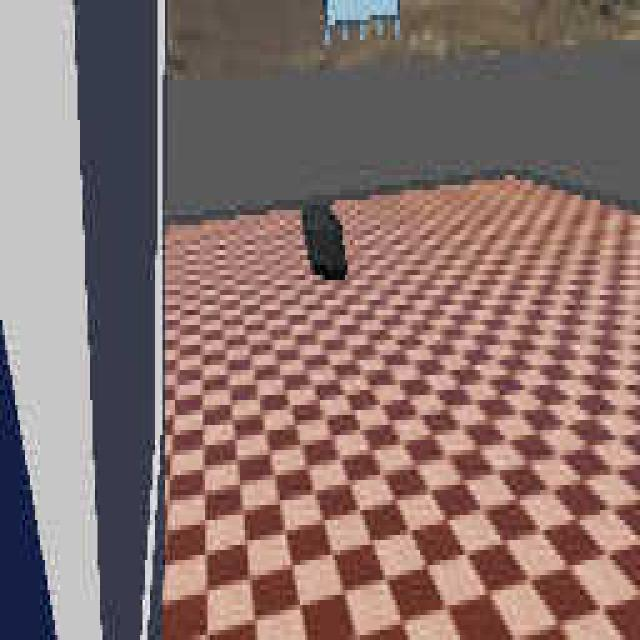rock: (302, 199, 347, 282)
